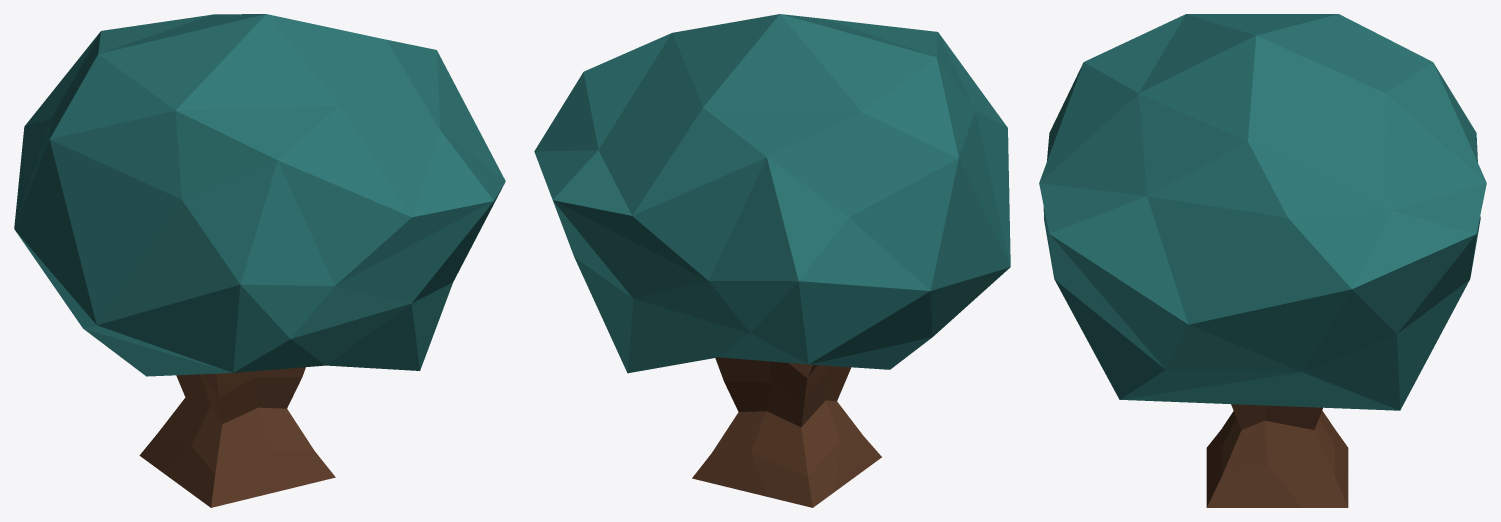
The model's file is Tree_33_Blue.fbx.
The picture shows the model from 3 angles, left to right: view 1: azimuth 30°, elevation 25°; view 2: azimuth 150°, elevation 25°; view 3: azimuth 270°, elevation 25°; orthographic projection. The views are drawn at different scales.
Visible parts, largest first — view 1: Tree_33_Blue_Part_1, Tree_33_Blue_Part_2; view 2: Tree_33_Blue_Part_1, Tree_33_Blue_Part_2; view 3: Tree_33_Blue_Part_1, Tree_33_Blue_Part_2.
Boxes of the visible parts, x1=… form: Tree_33_Blue_Part_1: x1=14, y1=14, x2=505, y2=376; Tree_33_Blue_Part_2: x1=139, y1=367, x2=335, y2=507; Tree_33_Blue_Part_1: x1=534, y1=14, x2=1010, y2=373; Tree_33_Blue_Part_2: x1=692, y1=357, x2=881, y2=507; Tree_33_Blue_Part_1: x1=1039, y1=14, x2=1486, y2=410; Tree_33_Blue_Part_2: x1=1206, y1=404, x2=1348, y2=507.
Bounding box in the file's own units: 762 × 812 × 731.
